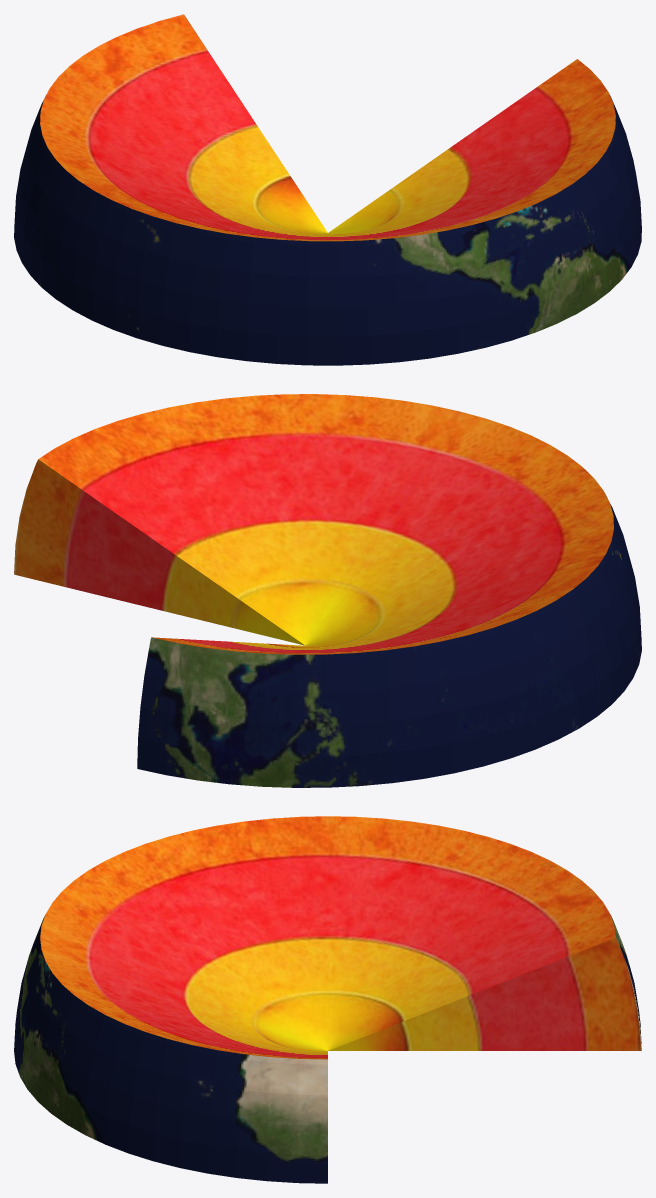
Rendered from 1_Hemi_norte_low.glb.
The picture shows the model from 3 angles, top to bottom: view 1: azimuth 30°, elevation 25°; view 2: azimuth 150°, elevation 25°; view 3: azimuth 270°, elevation 25°; orthographic projection. The views are drawn at different scales.
Visible parts, largest first — view 1: Hemi_norte_low; view 2: Hemi_norte_low; view 3: Hemi_norte_low.
Boxes of the visible parts, box(x1,y1,x2,y2) form: Hemi_norte_low: box(14, 14, 641, 365); Hemi_norte_low: box(14, 394, 641, 787); Hemi_norte_low: box(14, 816, 641, 1183).
Size of the model in its own units: 10 by 1.99 by 10.
Materials: 2 (2 with a texture image).
